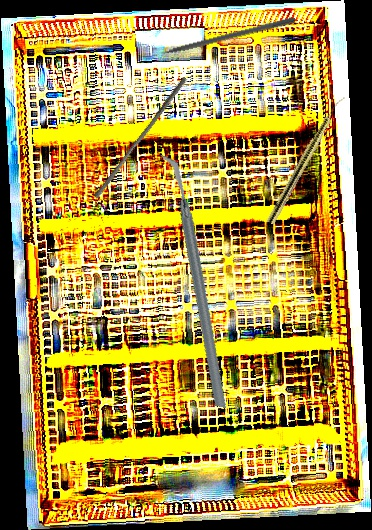Chopper: (106, 154, 280, 409)
Handpiece: (265, 92, 347, 227)
Pusher: (93, 73, 188, 202), (142, 15, 296, 61)
